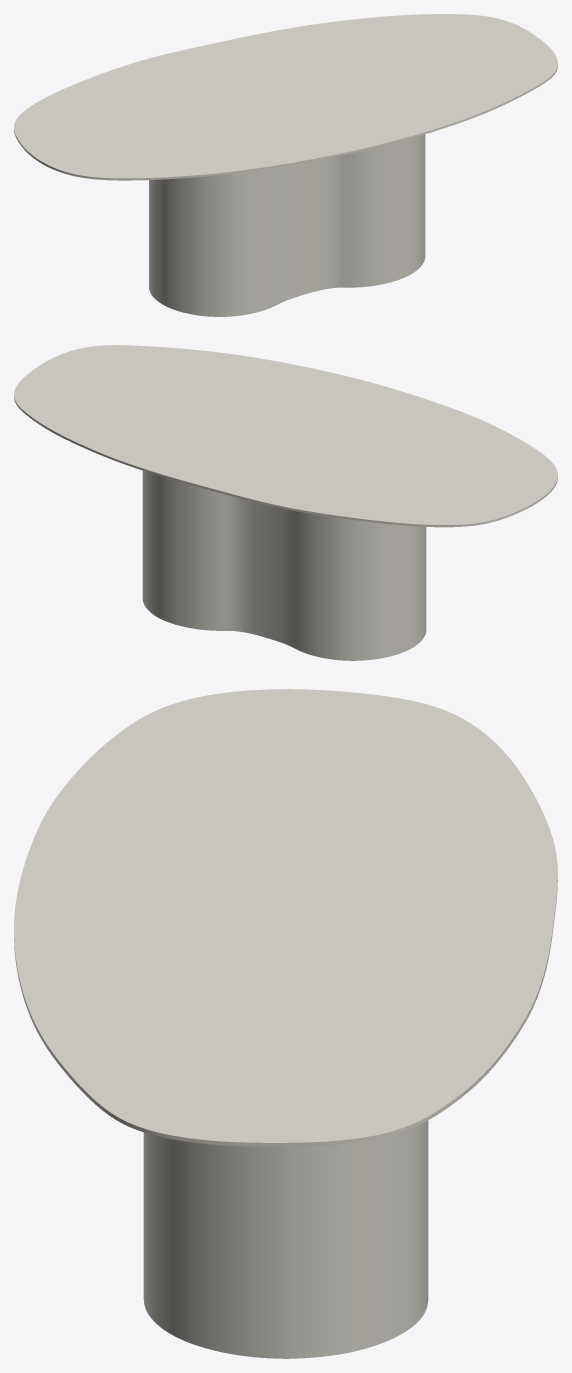
File: pale_danish_facet_riverwave.glb
3 renders of one model, top to bottom at view 1: azimuth 30°, elevation 25°; view 2: azimuth 150°, elevation 25°; view 3: azimuth 270°, elevation 25°, orthographic. The views are drawn at different scales.
Parts seen in each view (by area): view 1: facet_danish, riverwave; view 2: facet_danish, riverwave; view 3: facet_danish, riverwave.
Part boxes in pixels (x1=…): facet_danish: x1=14, y1=14, x2=557, y2=180; riverwave: x1=149, y1=134, x2=425, y2=316; facet_danish: x1=14, y1=345, x2=557, y2=527; riverwave: x1=142, y1=470, x2=426, y2=660; facet_danish: x1=14, y1=689, x2=557, y2=1146; riverwave: x1=143, y1=1120, x2=428, y2=1358.
Size of the model in its own units: 7.5 by 2.5 by 3.8.
1 material, 1 textured.
